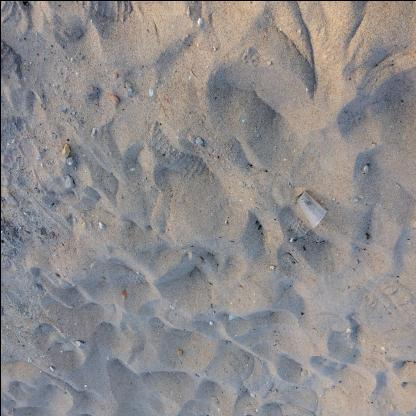Paper: (289, 237, 292, 242)
Plastic: (296, 190, 326, 228)
